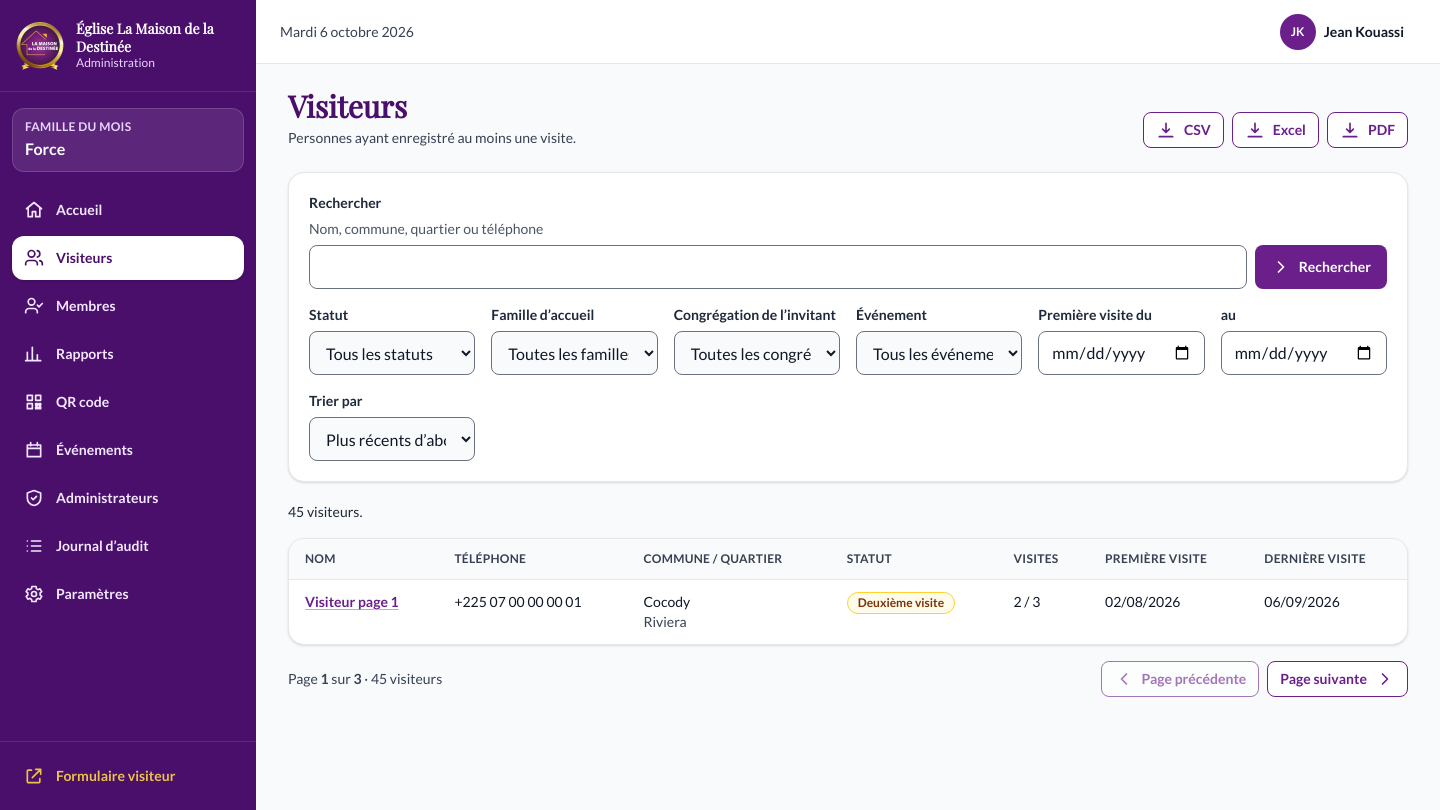
liste des visiteurs — pagination › respecte les bornes et suit la page dans l’URL
This screenshot has width=1440, height=810.
Expected: the navigation bar named "Pagination" shows "Page 1 sur 3", [288, 661, 1408, 697]
Expected: the button "Page précédente" is disabled, [1100, 661, 1259, 697]
Click the button "Page suivante" at (1338, 679), box [1267, 661, 1408, 697]
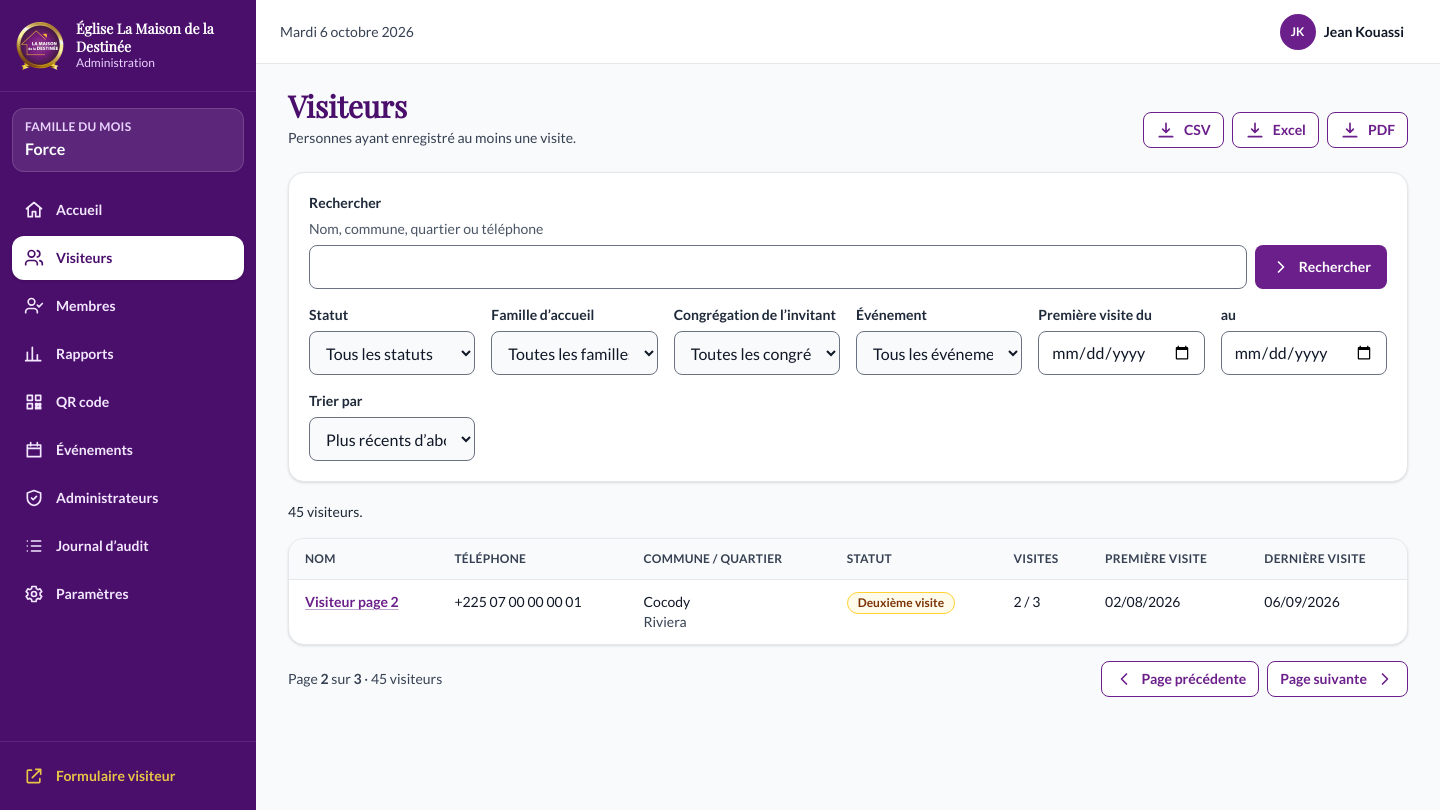
Expected: the navigation bar named "Pagination" shows "Page 2 sur 3", [288, 661, 1408, 697]
Click the button "Page suivante" at (1338, 679), box [1267, 661, 1408, 697]
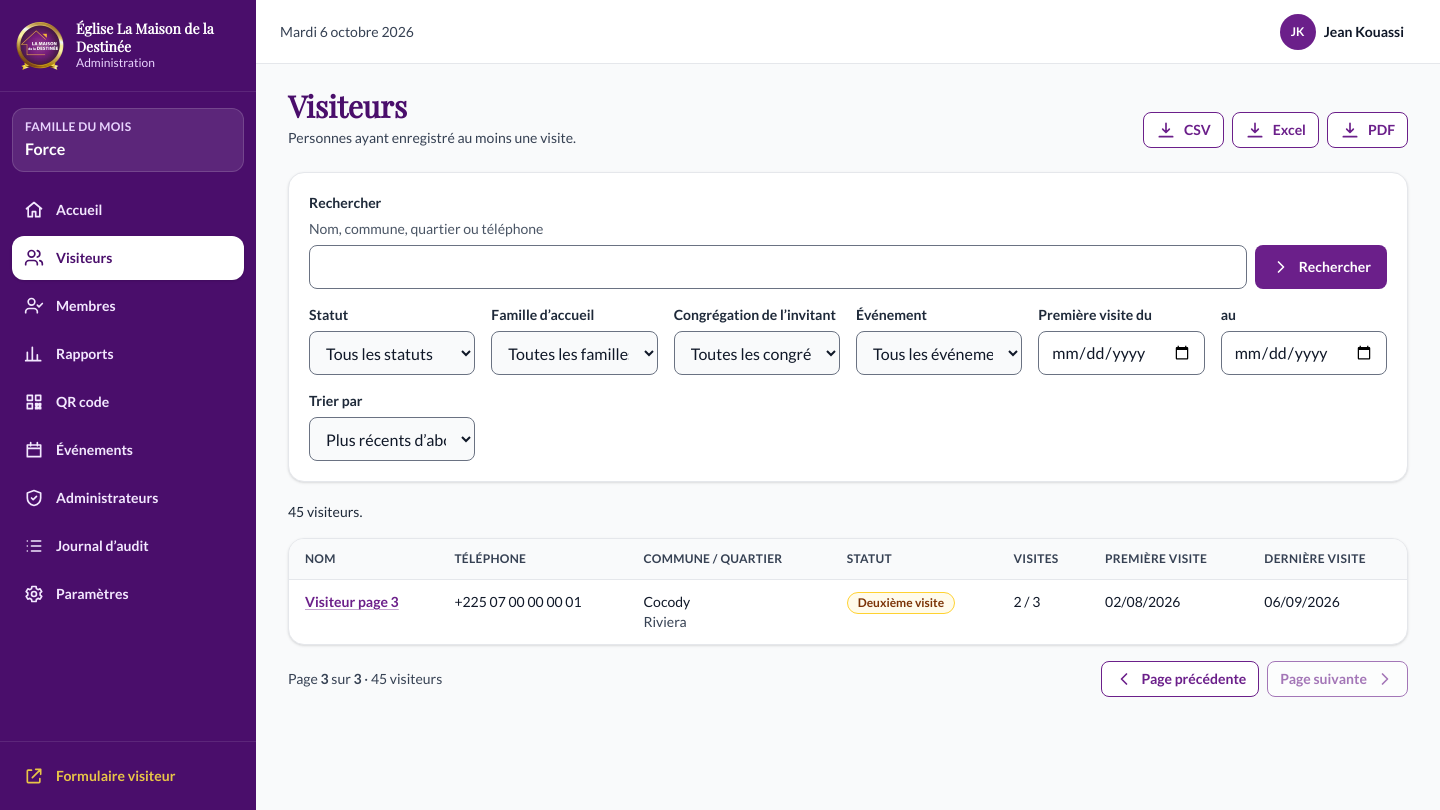
Expected: the button "Page précédente" is enabled, [1100, 661, 1259, 697]
Expected: the navigation bar named "Pagination" shows "Page 3 sur 3", [288, 661, 1408, 697]
Expected: the button "Page suivante" is disabled, [1267, 661, 1408, 697]
